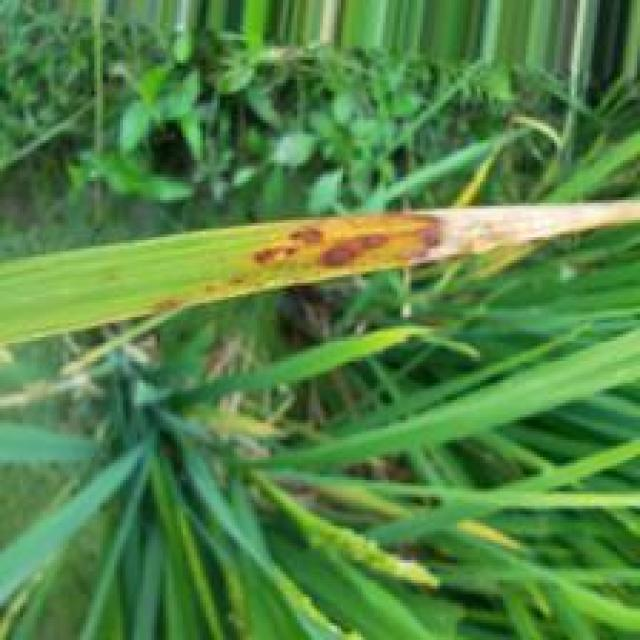Leaf_Scald: (383, 198, 638, 264)
